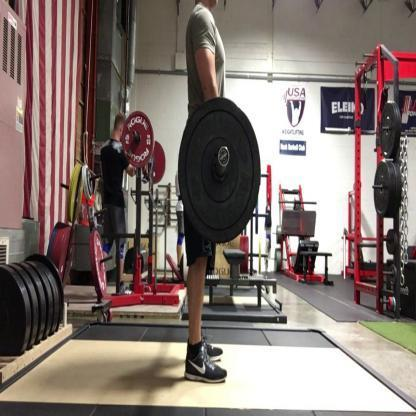barbell: (176, 98, 262, 245), (122, 111, 168, 184)
